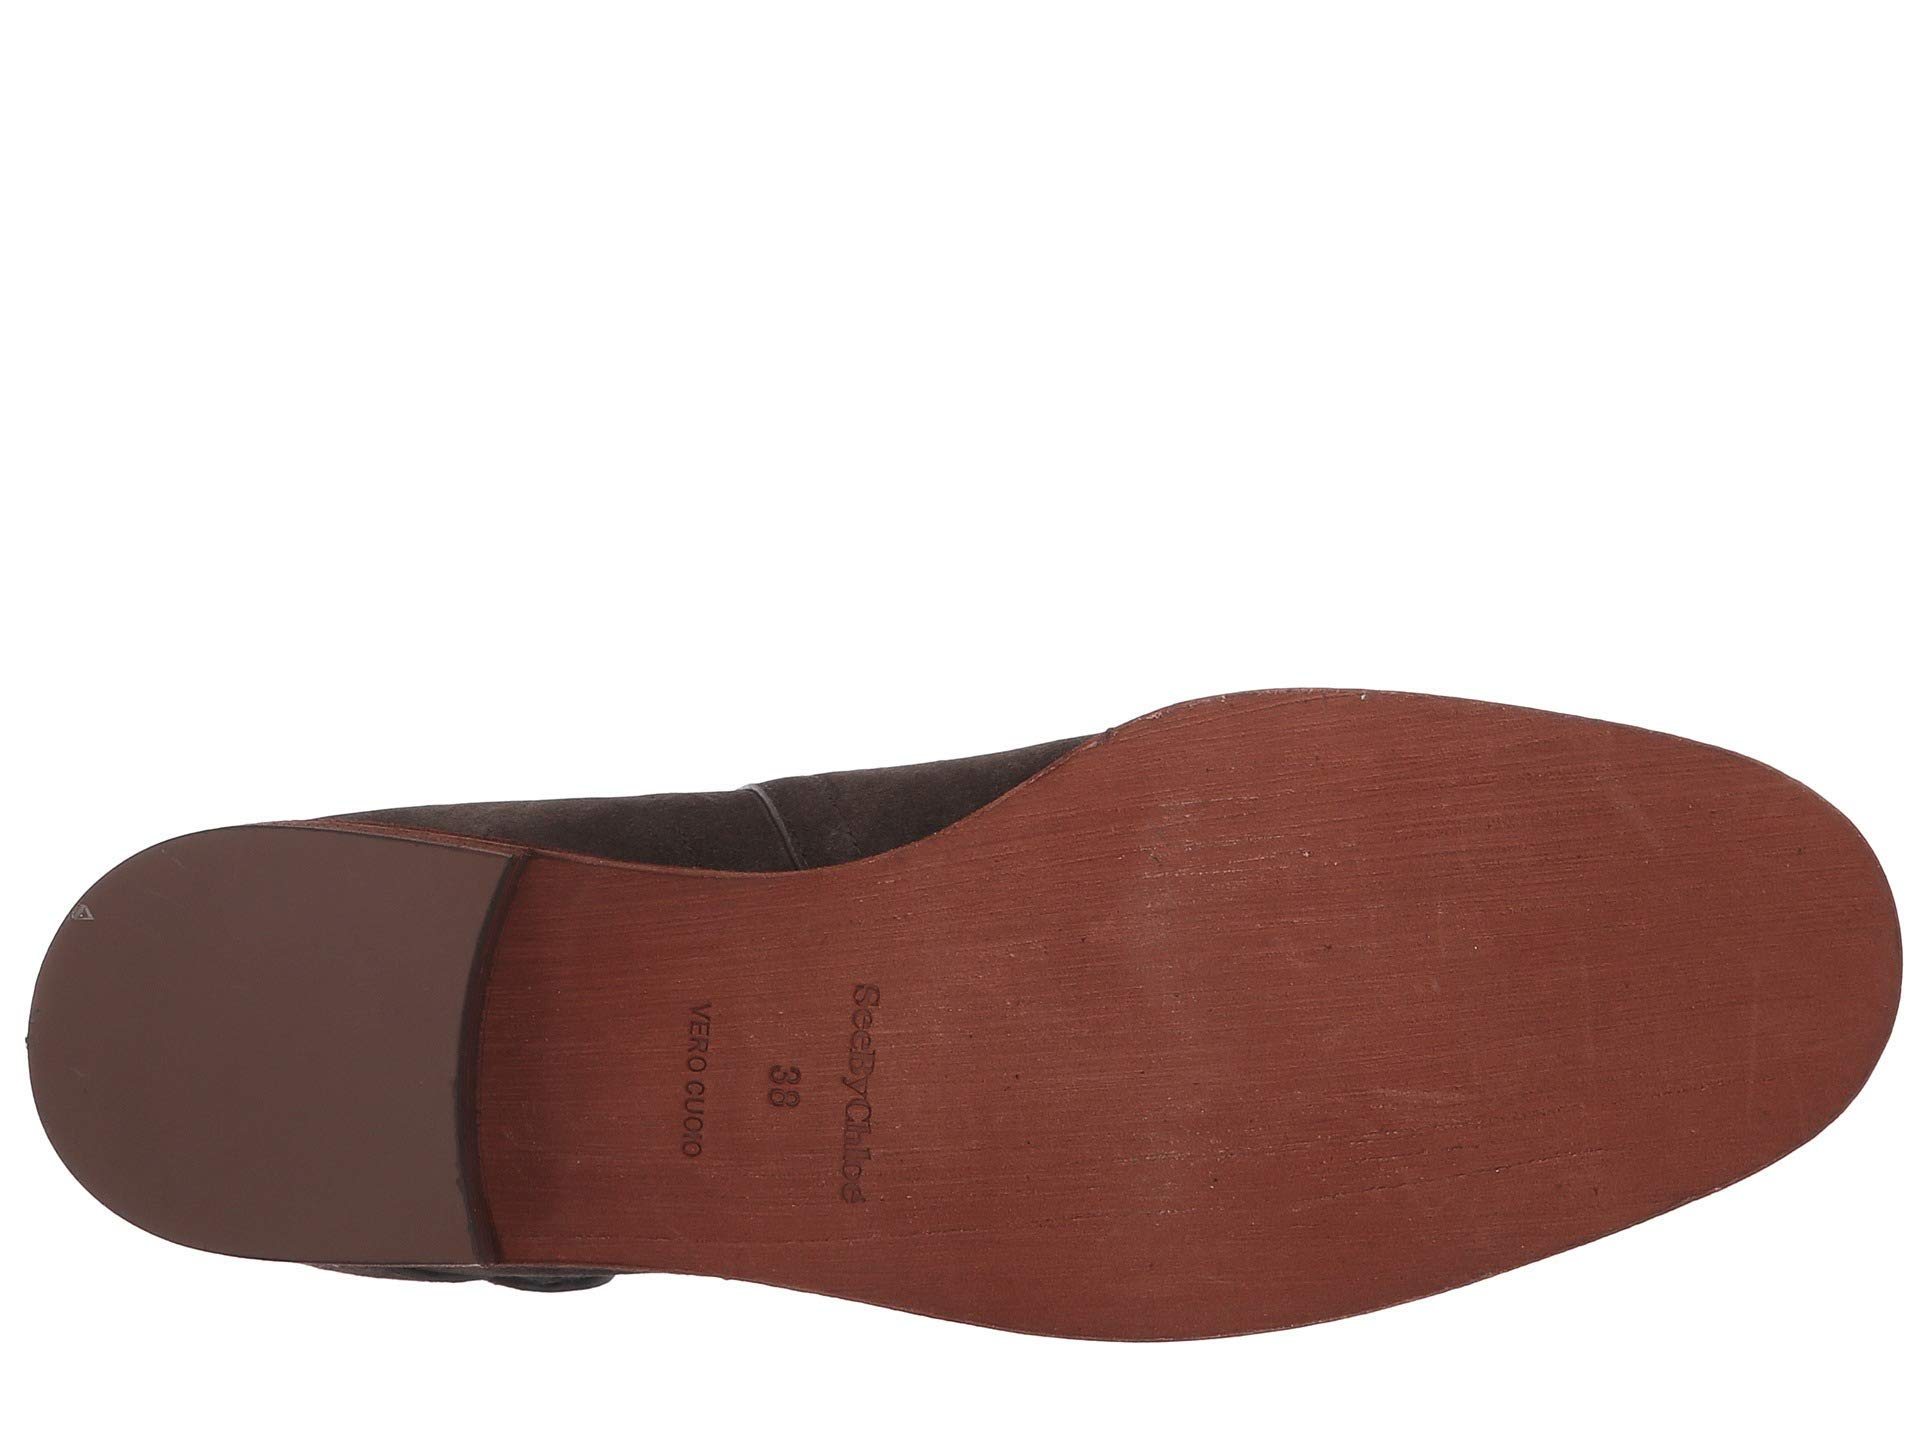text: (597, 900, 986, 1237)
